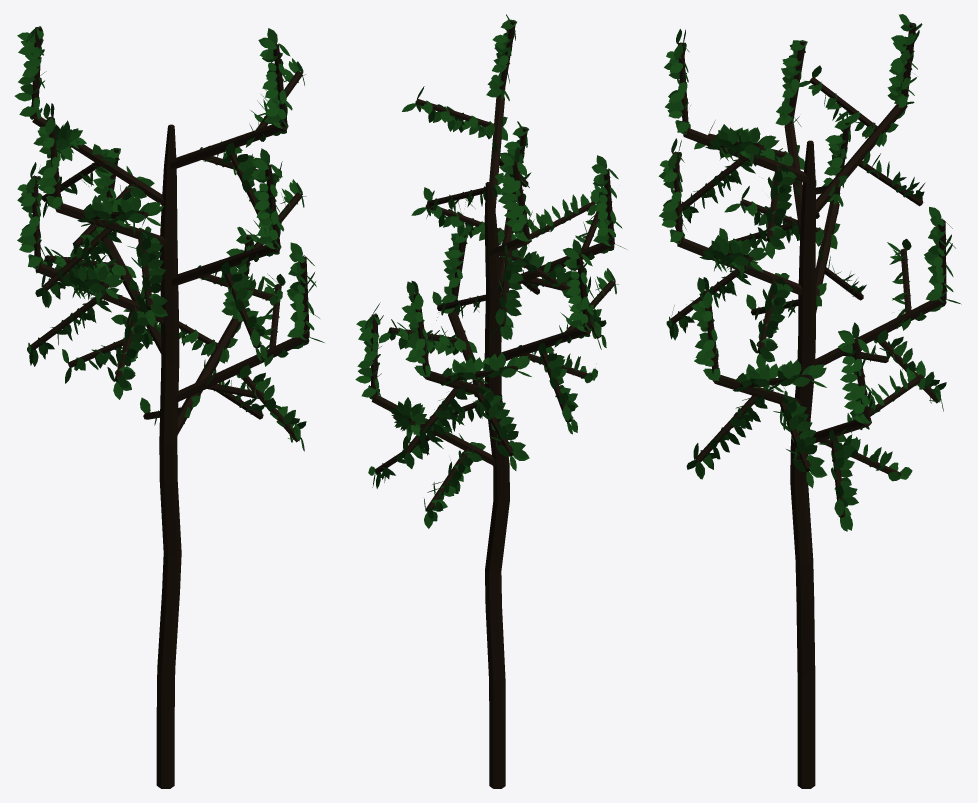
The model's file is Tree_Anna.fbx.
The picture shows the model from 3 angles, left to right: view 1: azimuth 30°, elevation 25°; view 2: azimuth 150°, elevation 25°; view 3: azimuth 270°, elevation 25°; orthographic projection. The views are drawn at different scales.
Visible parts, largest first — view 1: box_object1; view 2: box_object1; view 3: box_object1.
Boxes of the visible parts, bbox=[...] form: box_object1: bbox=[14, 26, 324, 788]; box_object1: bbox=[355, 14, 626, 788]; box_object1: bbox=[658, 14, 961, 788].
Bounding box in the file's own units: 1.36 × 3.96 × 1.41.
